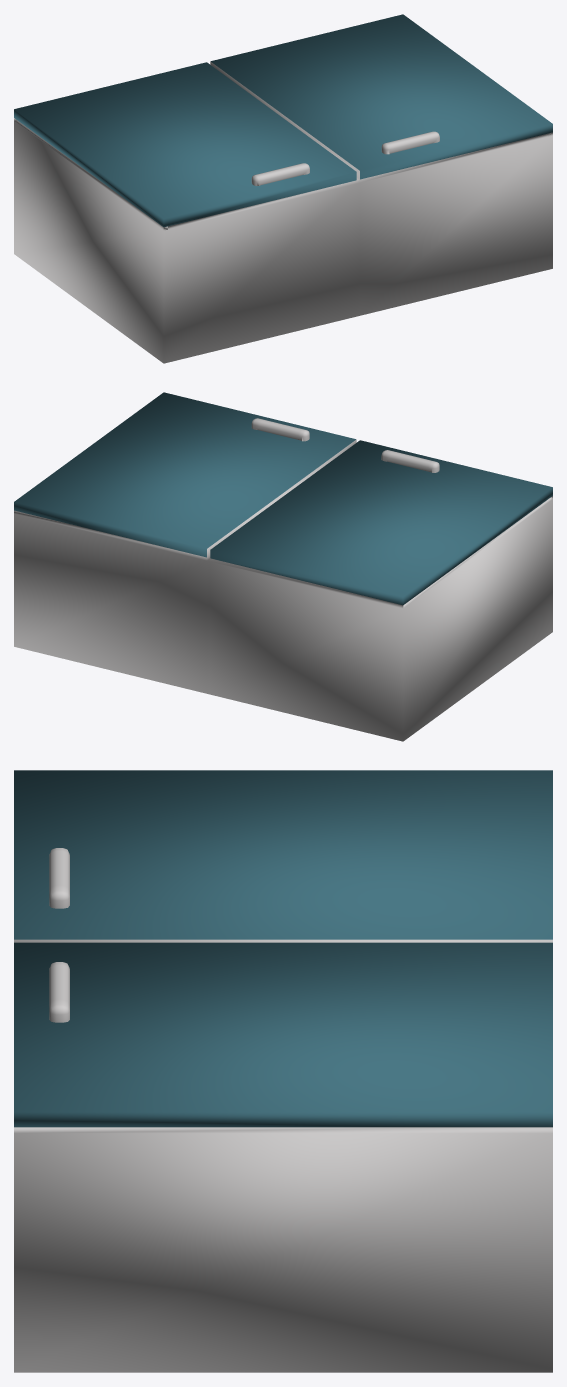
3 views of the same model, one above another, from view 1: azimuth 30°, elevation 25°; view 2: azimuth 150°, elevation 25°; view 3: azimuth 270°, elevation 25° (orthographic). The views are drawn at different scales.
Parts seen in each view (by area): view 1: Cube.002; view 2: Cube.002; view 3: Cube.002.
Part boxes in pixels (box(x1,y1,x2,y2)): Cube.002: box(14, 14, 552, 363); Cube.002: box(14, 392, 552, 741); Cube.002: box(14, 770, 552, 1372).
Size of the model in its own units: 90 by 33.82 by 60.
